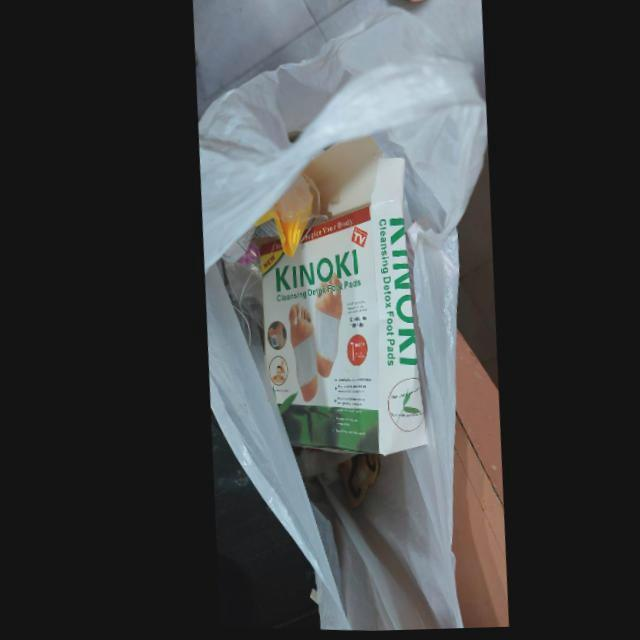cardboard: (253, 137, 418, 457)
